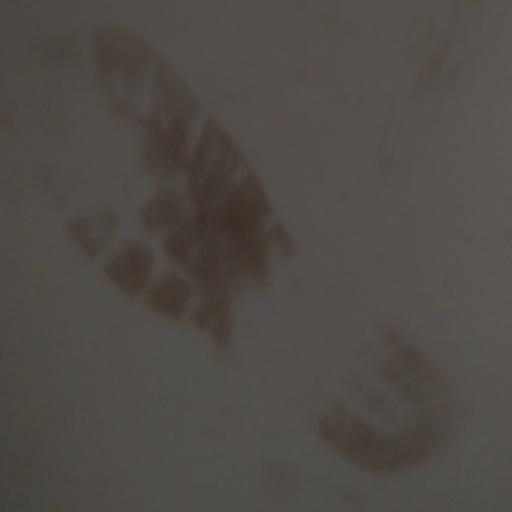stain: (32, 14, 478, 469)
